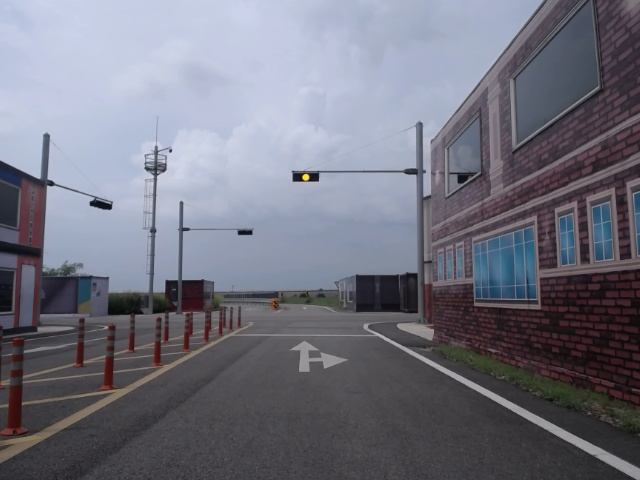orange_3: (293, 172, 319, 183)
